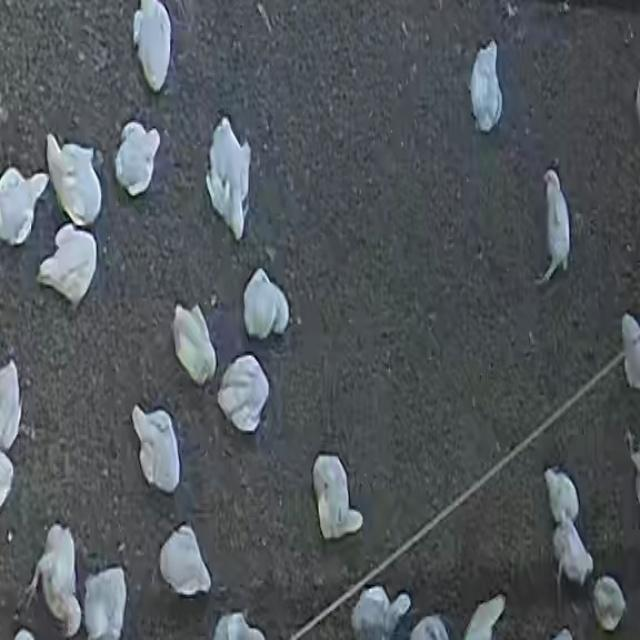chicken: (535, 165, 579, 293), (47, 134, 103, 226), (37, 222, 98, 306), (33, 520, 80, 629), (170, 300, 220, 388), (312, 454, 363, 539), (132, 406, 180, 494), (218, 356, 270, 434), (240, 270, 296, 340), (132, 0, 174, 93), (158, 524, 210, 598), (469, 38, 509, 134), (1, 166, 49, 244), (114, 121, 161, 197), (354, 580, 411, 638), (82, 566, 127, 638), (552, 518, 594, 590), (459, 594, 506, 638), (544, 467, 580, 524), (592, 574, 626, 630), (1, 361, 22, 450)
